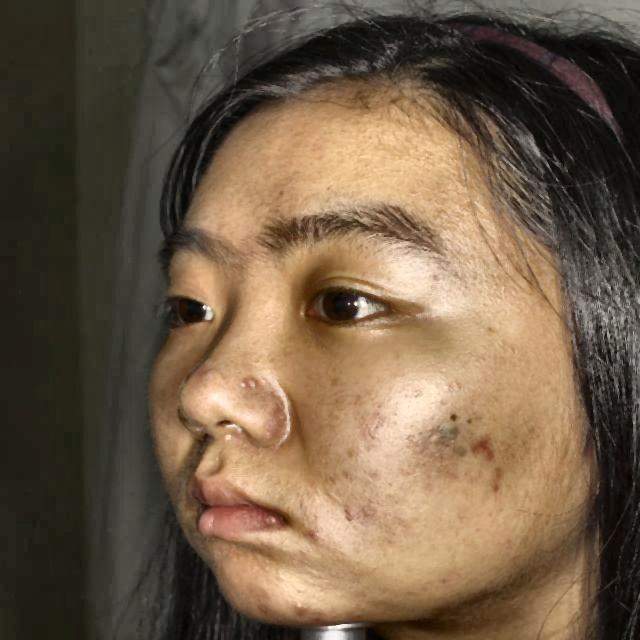pustule: (476, 465, 514, 498), (300, 520, 330, 553), (238, 370, 267, 401), (462, 437, 500, 459), (289, 592, 314, 620), (201, 360, 227, 386)
